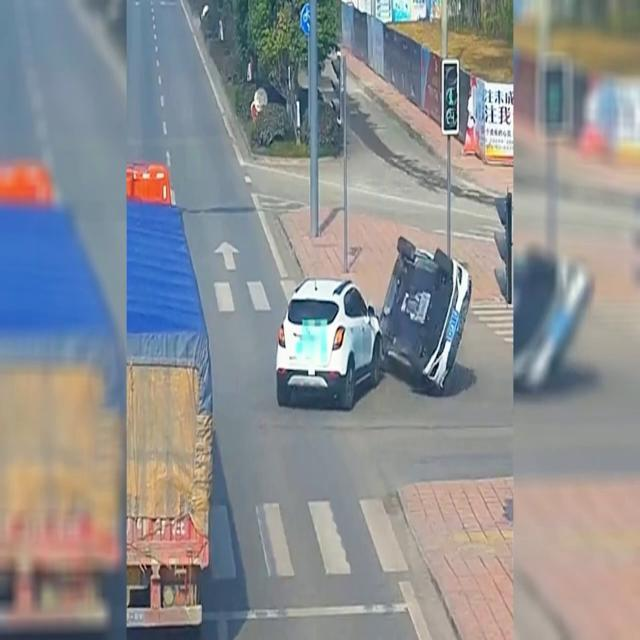accident: (273, 237, 473, 413)
